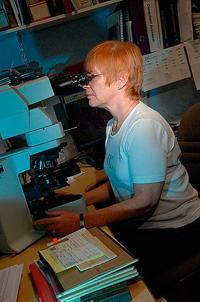person: (33, 40, 199, 296)
